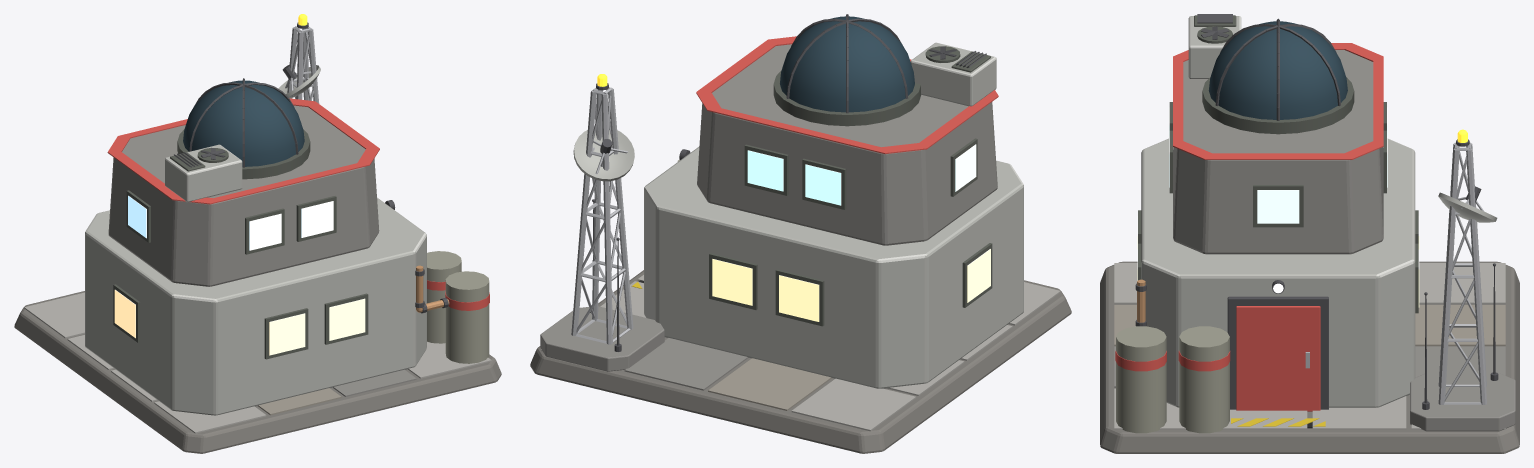
The model's file is tech_center_red.glb.
The picture shows the model from 3 angles, left to right: view 1: azimuth 30°, elevation 25°; view 2: azimuth 150°, elevation 25°; view 3: azimuth 270°, elevation 25°; orthographic projection. The views are drawn at different scales.
Parts seen in each view (by area): view 1: Body; view 2: Body; view 3: Body.
Boxes of the visible parts, <box> form: Body: <box>14,14,501,453</box>; Body: <box>530,14,1071,453</box>; Body: <box>1100,14,1519,453</box>.
Size of the model in its own units: 3.98 by 3.4 by 3.98.
Materials: 1 (1 with a texture image).
